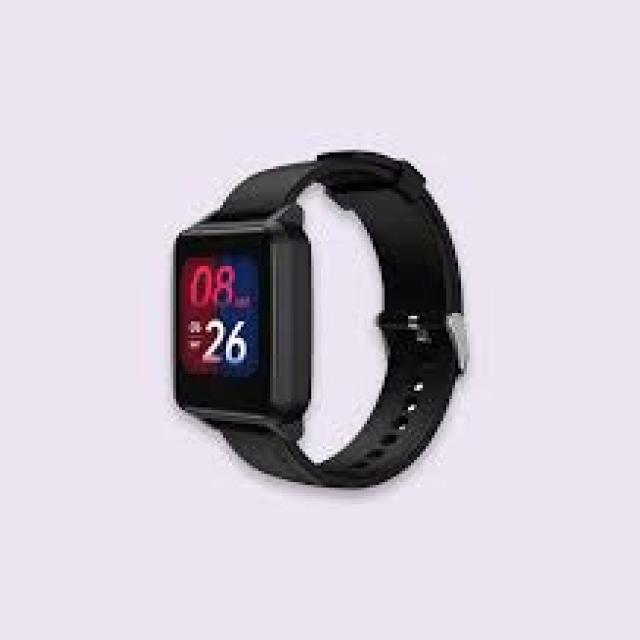objects: (171, 148, 467, 492)
